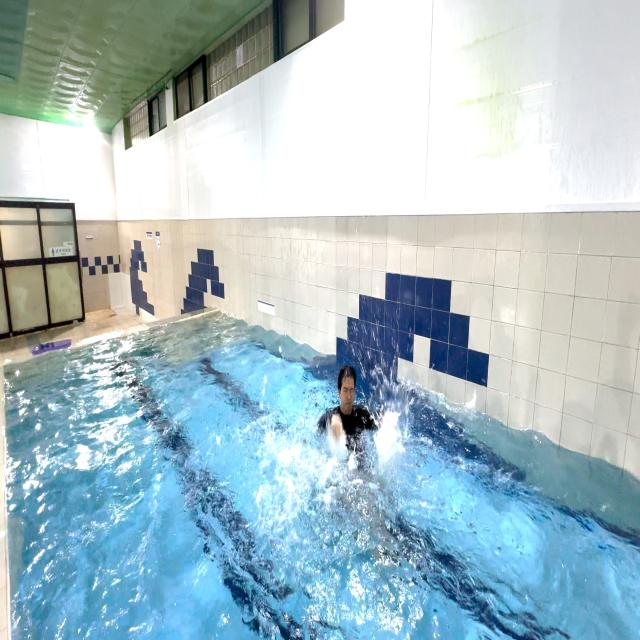Drowning: (309, 355, 402, 492)
